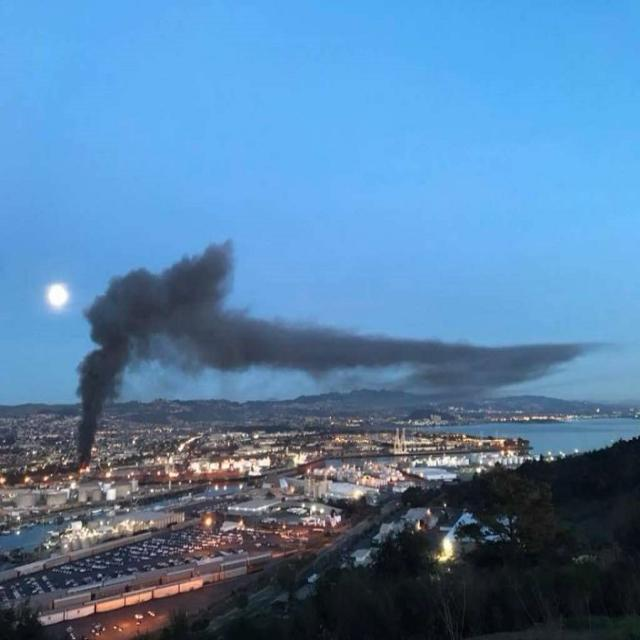Fire: (80, 466, 92, 474)
Smoke: (72, 348, 120, 463), (144, 325, 202, 377), (126, 335, 142, 373)
